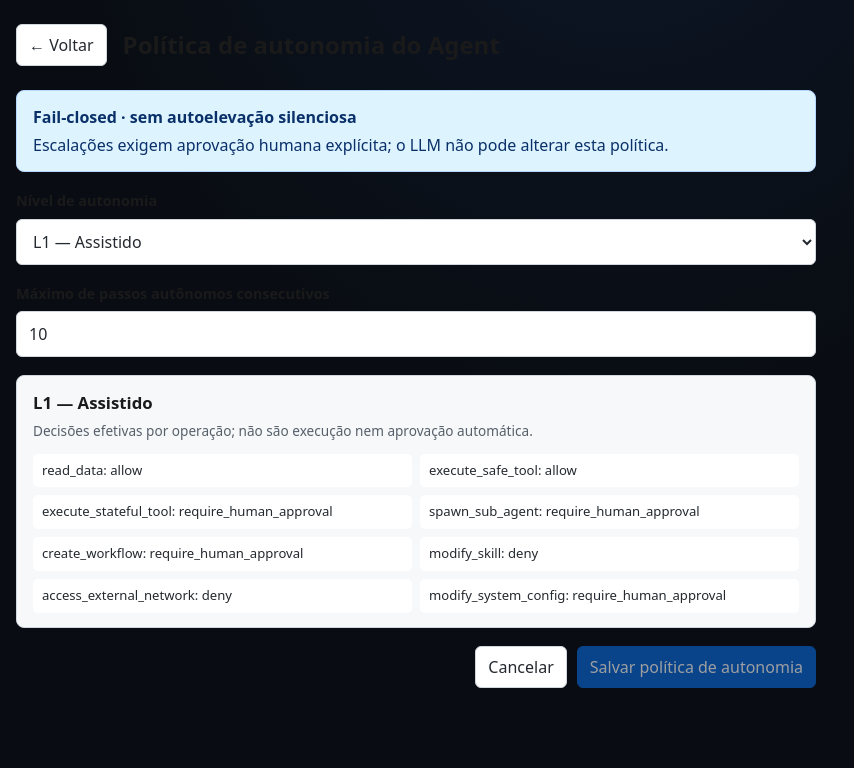
AutonomyPage › maps stale update errors to a visible rollback state
The image size is (854, 768).
Step 1. Select "L0 — Nenhum" in the dropdown labelled "Nível de autonomia" → (416, 242), box [16,219,816,265]
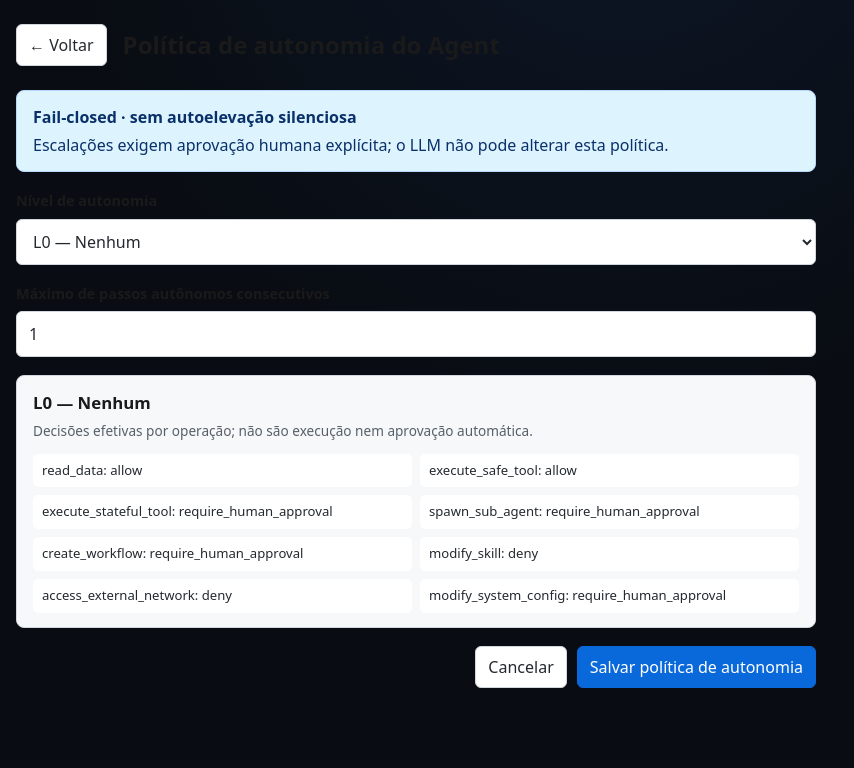
Step 2. Click the button "Salvar política de autonomia" → (696, 666), box [577,646,816,688]
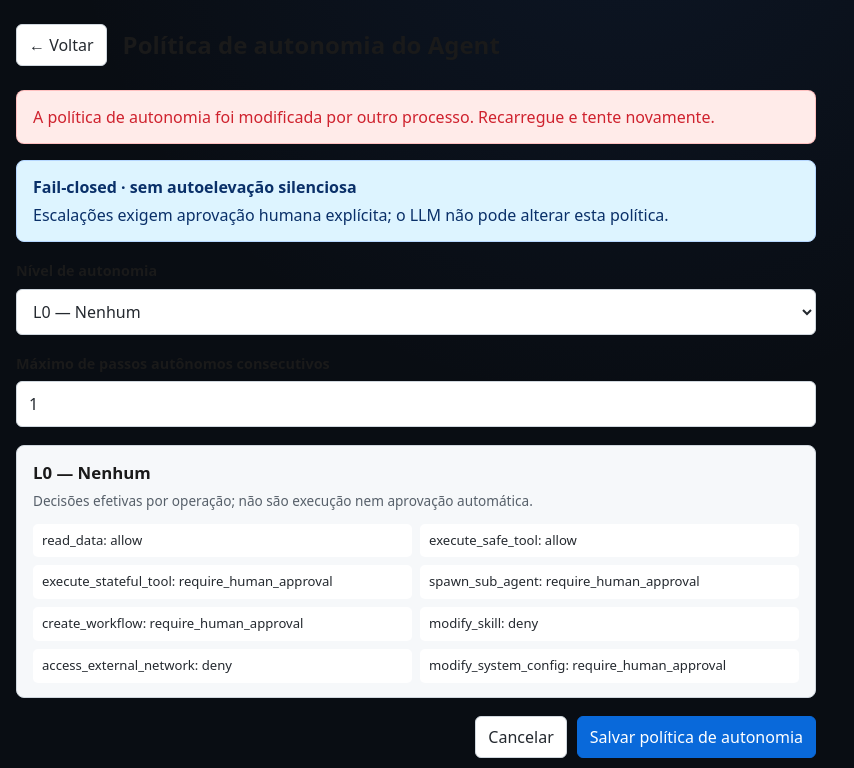
Expected: the message shows "modificada por outro processo", [33,106,715,128]
